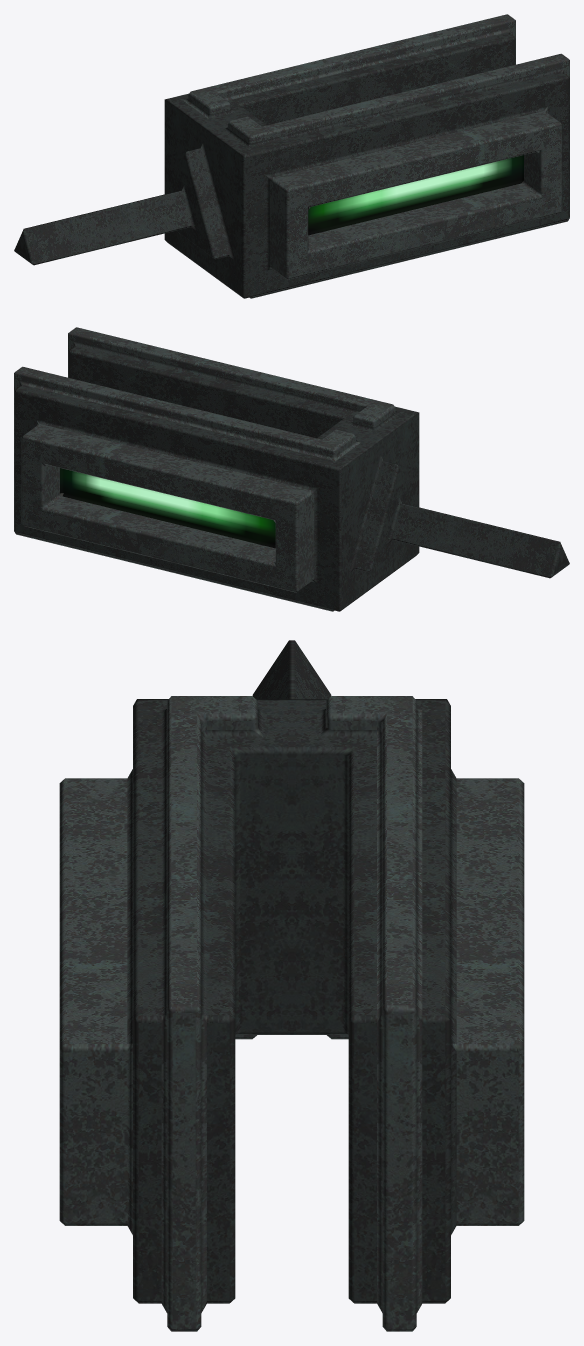
File: TransmissionDevice_EmptyChamber.fbx
3 renders of one model, top to bottom at view 1: azimuth 30°, elevation 25°; view 2: azimuth 150°, elevation 25°; view 3: azimuth 270°, elevation 25°, orthographic. The views are drawn at different scales.
Visible parts, largest first — view 1: Needle.001; view 2: Needle.001; view 3: Needle.001.
Boxes of the visible parts, box(x1,y1,x2,y2) form: Needle.001: box(14, 14, 569, 298); Needle.001: box(14, 327, 569, 611); Needle.001: box(59, 640, 524, 1331).
Bounding box in the file's own units: 212 × 63.71 × 82.23.
3 materials, 2 textured.
